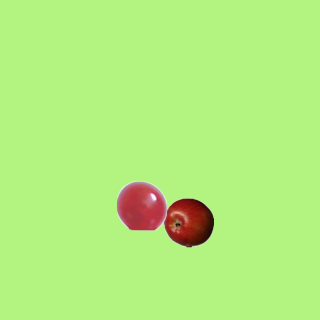Apple Braeburn: (163, 197, 213, 247)
Redcurrant: (116, 180, 166, 230)
